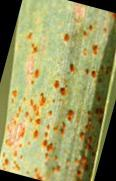Wheat: (63, 19, 107, 95), (25, 107, 96, 144), (24, 29, 58, 101), (34, 145, 87, 174), (5, 89, 24, 168)
